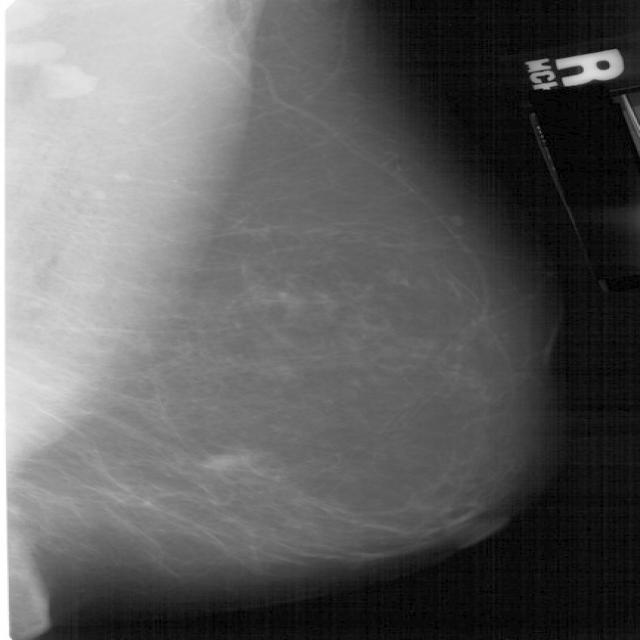tumour: (198, 454, 260, 472)
